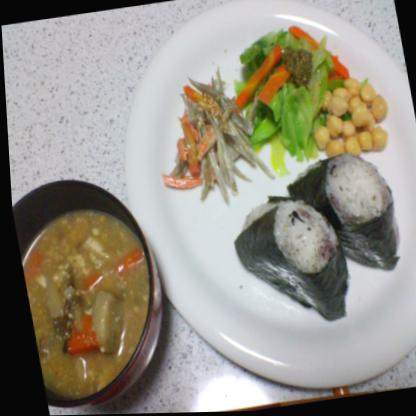rice roll: (289, 148, 398, 273), (224, 194, 342, 302)
